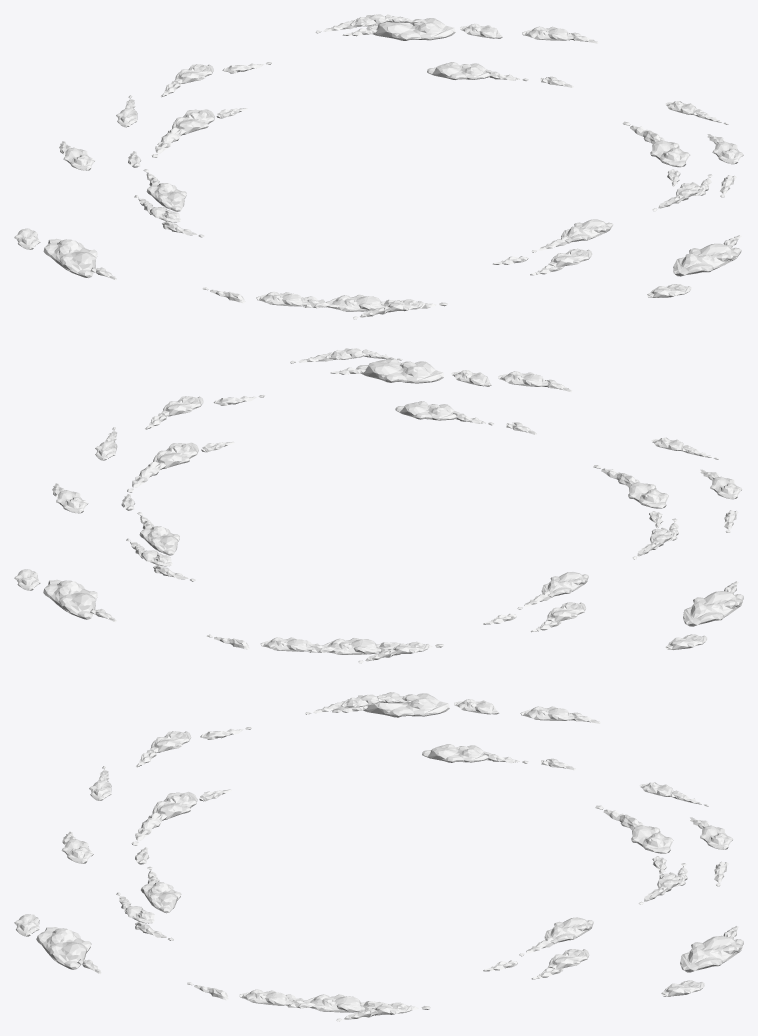
The model's file is bg-clouds.glb.
3 renders of one model, top to bottom at view 1: azimuth 30°, elevation 25°; view 2: azimuth 150°, elevation 25°; view 3: azimuth 270°, elevation 25°, orthographic. The views are drawn at different scales.
Parts seen in each view (by area): view 1: SM_Gen_Env_Cloud_Ring_01; view 2: SM_Gen_Env_Cloud_Ring_01; view 3: SM_Gen_Env_Cloud_Ring_01.
Boxes of the visible parts, left/top/right/bottom form: SM_Gen_Env_Cloud_Ring_01: left=14, top=14, right=743, bottom=319; SM_Gen_Env_Cloud_Ring_01: left=14, top=348, right=743, bottom=663; SM_Gen_Env_Cloud_Ring_01: left=14, top=692, right=743, bottom=1021.
Bounding box in the file's own units: 344 × 30.27 × 322.
Materials: 1 (1 with a texture image).
